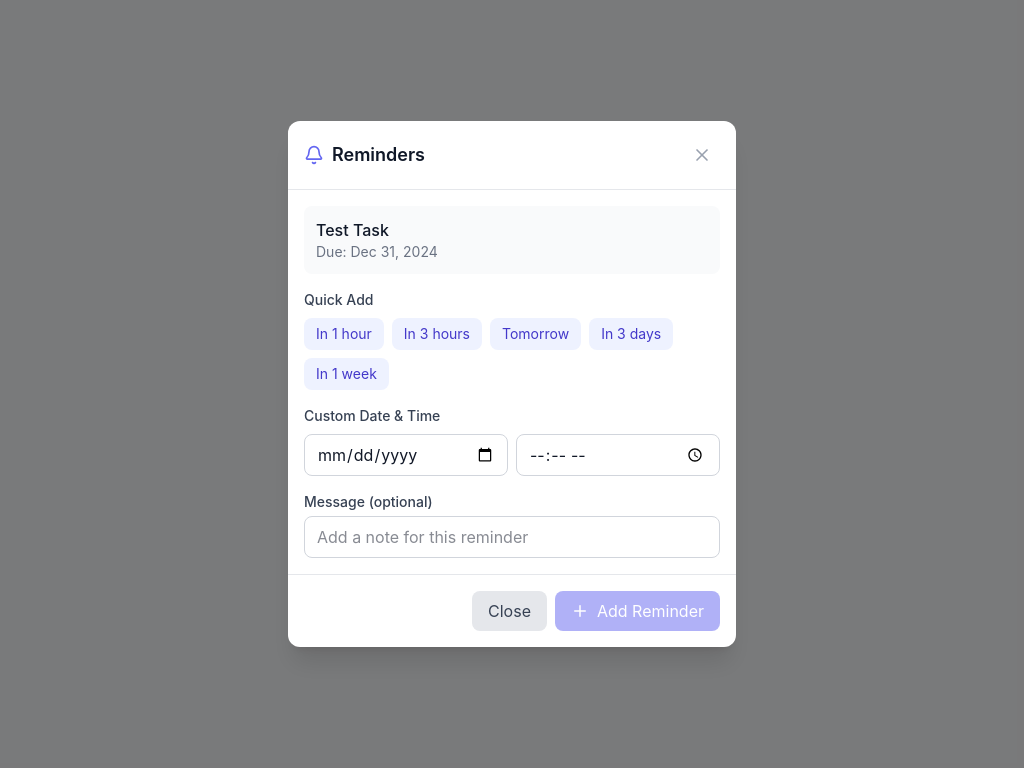
Test case: ReminderModal › shows date error with role="alert" and links via aria-describedby
Type "2020-01-01" into the date field with test id "custom-date" at (406, 455), box [304,434,508,476]
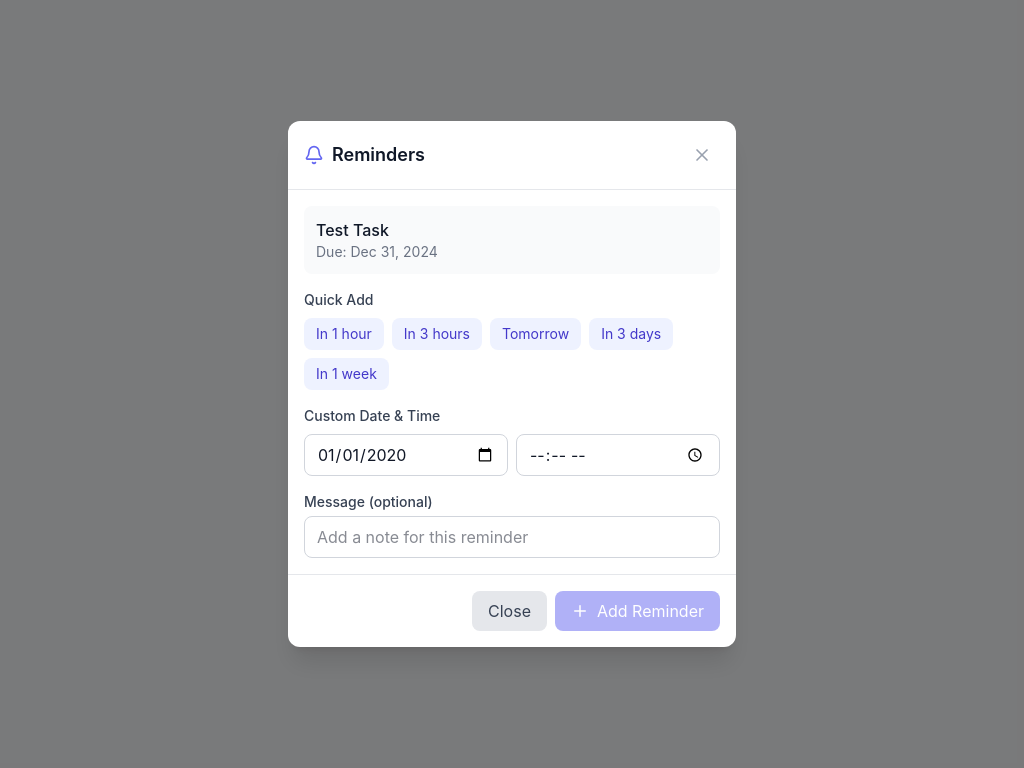
Type "10:00" into the time field with test id "custom-time" at (618, 455), box [516,434,720,476]
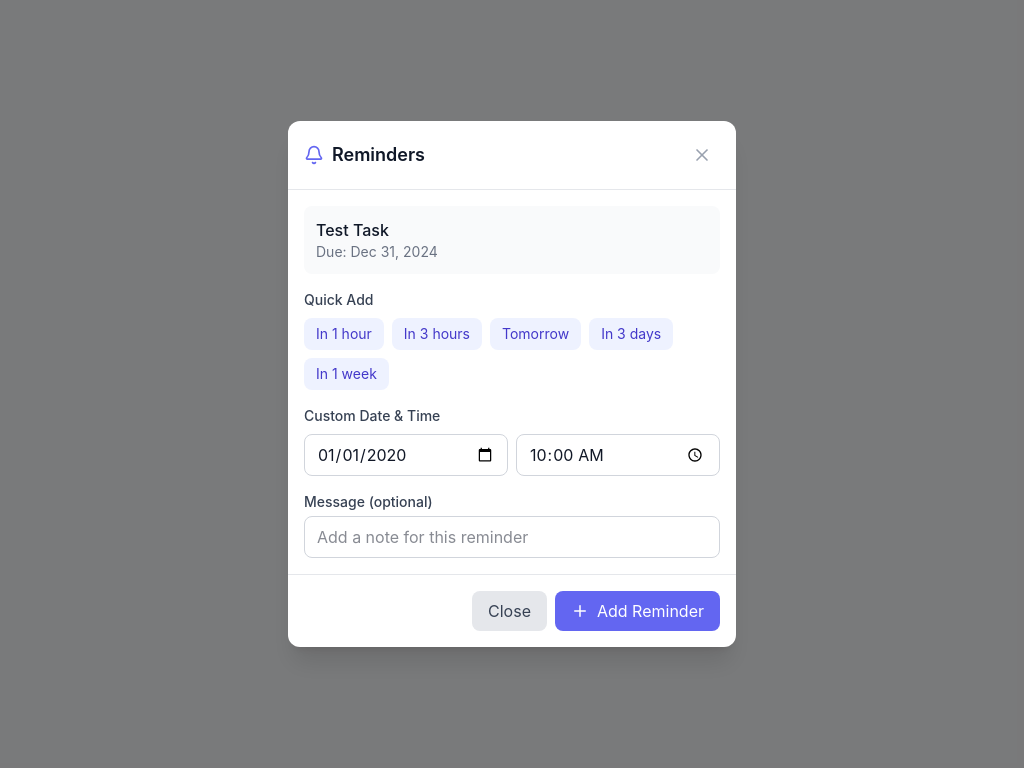
Click the button with test id "add-reminder-btn" at (638, 611), box [555,591,720,631]
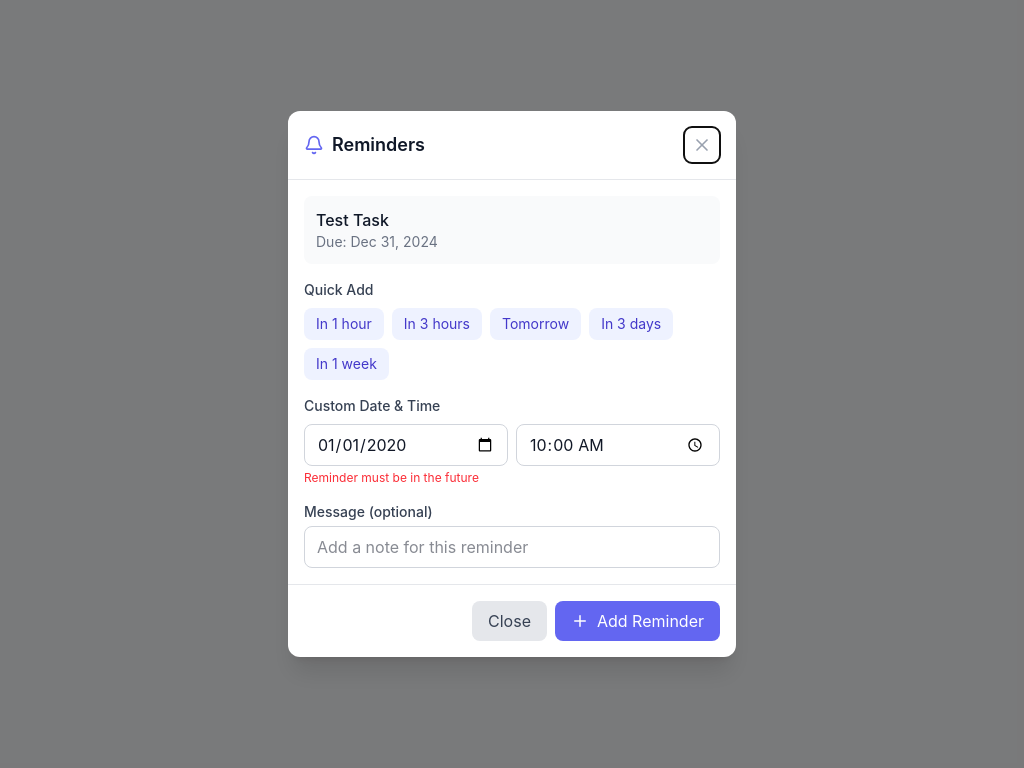
Expected: the message reads "Reminder must be in the future", [304,470,479,485]
